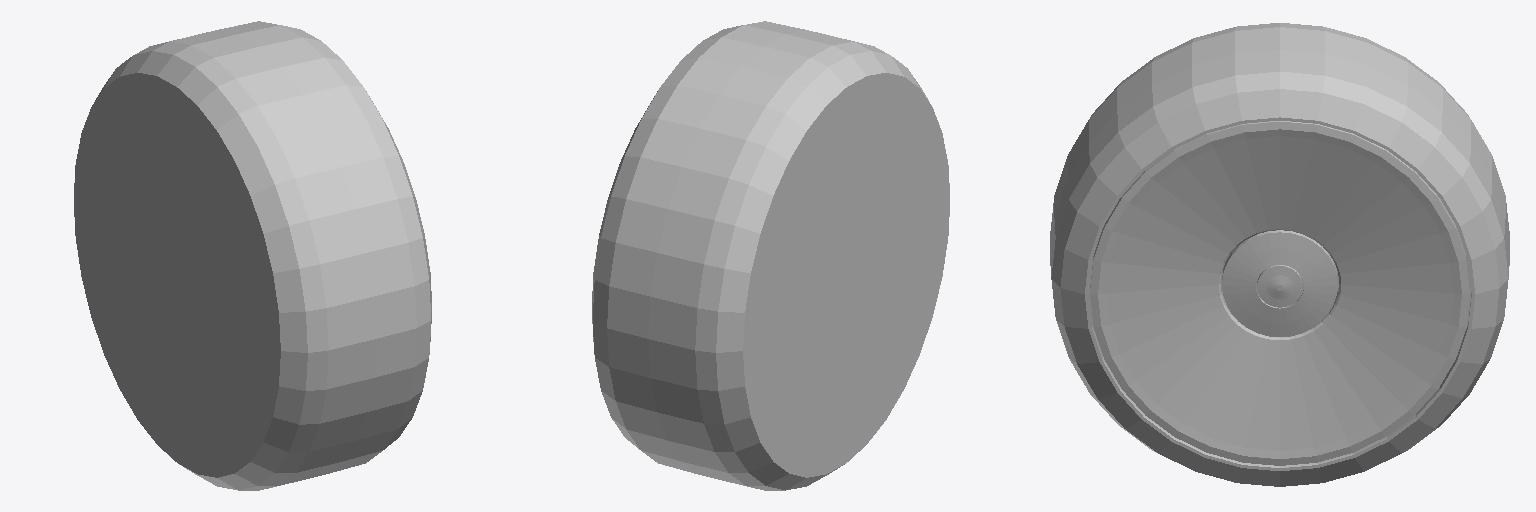
File: Wheels_Car_Bmw.obj
The picture shows the model from 3 angles: view 1: azimuth 30°, elevation 25°; view 2: azimuth 150°, elevation 25°; view 3: azimuth 270°, elevation 25°; orthographic projection.
Parts seen in each view (by area): view 1: Wheel_FL; view 2: Wheel_FL; view 3: Wheel_FL.
Boxes of the visible parts, x1=… form: Wheel_FL: x1=74, y1=21, x2=431, y2=490; Wheel_FL: x1=592, y1=21, x2=949, y2=490; Wheel_FL: x1=1050, y1=23, x2=1509, y2=486.
Size of the model in its own units: 0.2904 by 0.7344 by 0.7344.